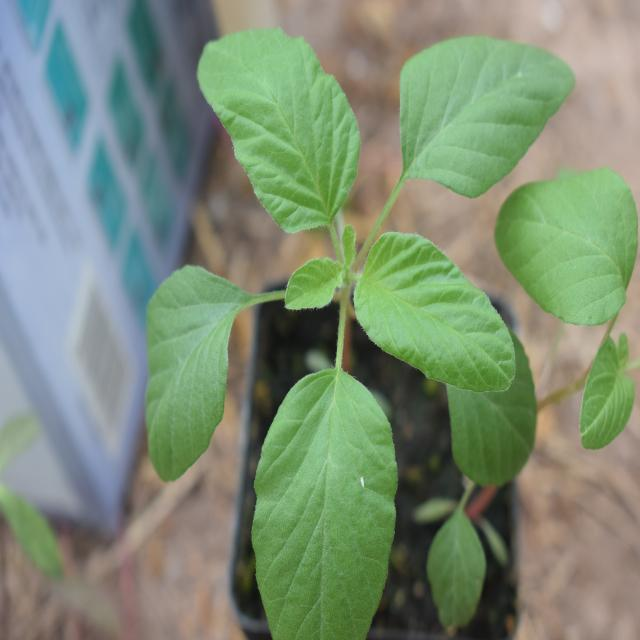pigweed: (152, 2, 538, 636)
